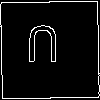U: (25, 24, 60, 73)
